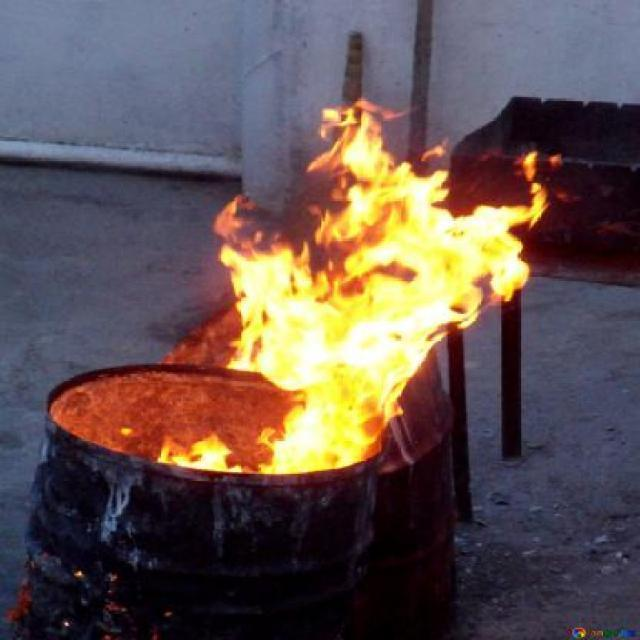Fire: (216, 104, 552, 470)
